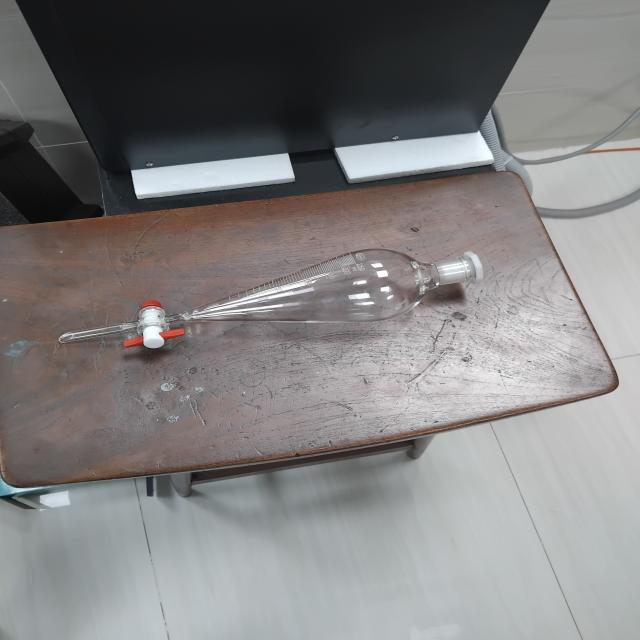Separating_Funnel: (26, 232, 498, 378)
